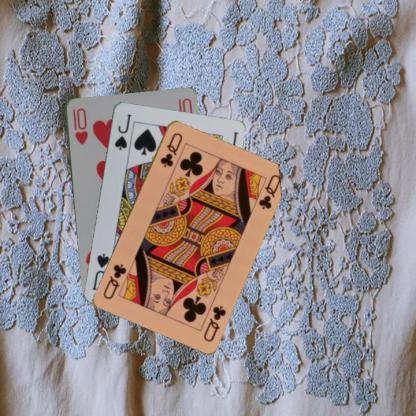10h: (70, 105, 89, 146)
Js: (111, 111, 133, 151)
Qc: (157, 129, 184, 169), (201, 302, 227, 343)
